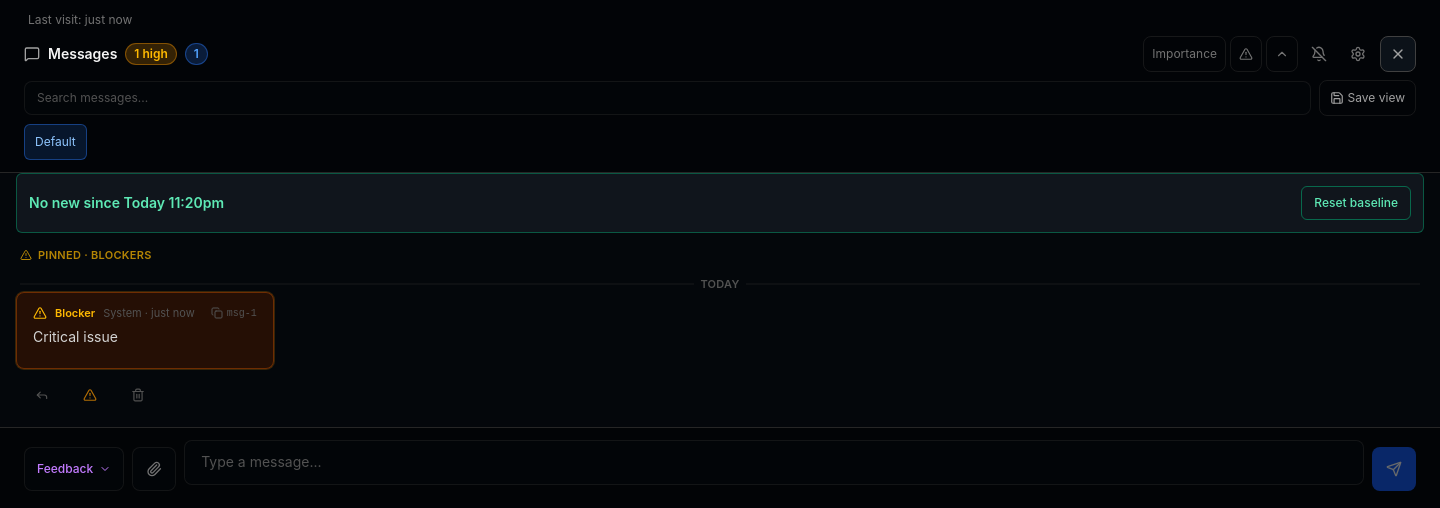
Test: MessagesPanel Investigate action › Investigate confirmation flow shows inline dialog
# Click Investigate button
What coordinates should you click on to do the following:
click the button titled "Investigate"
I would click on:
 (90, 395)
Its box is [68,373,112,417].
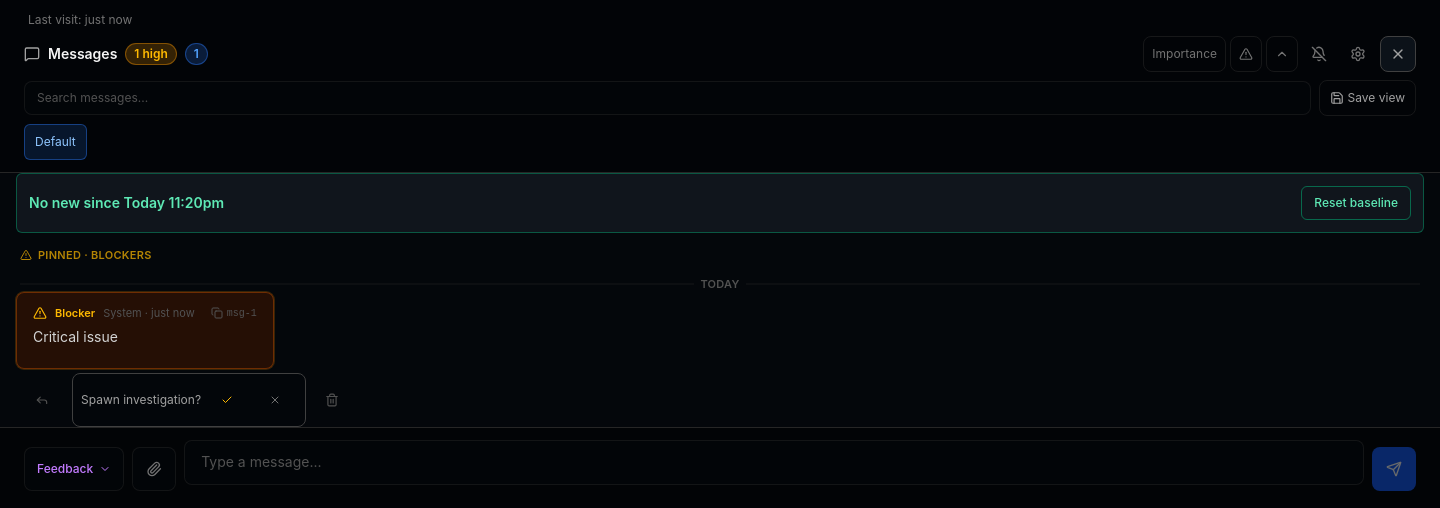
Expected: the button named "Confirm investigation" is shown, [205,378,249,422]
Expected: the text "Spawn investigation?" is shown, [81,392,201,408]
Expected: the button named "Cancel" is shown, [253,378,297,422]
